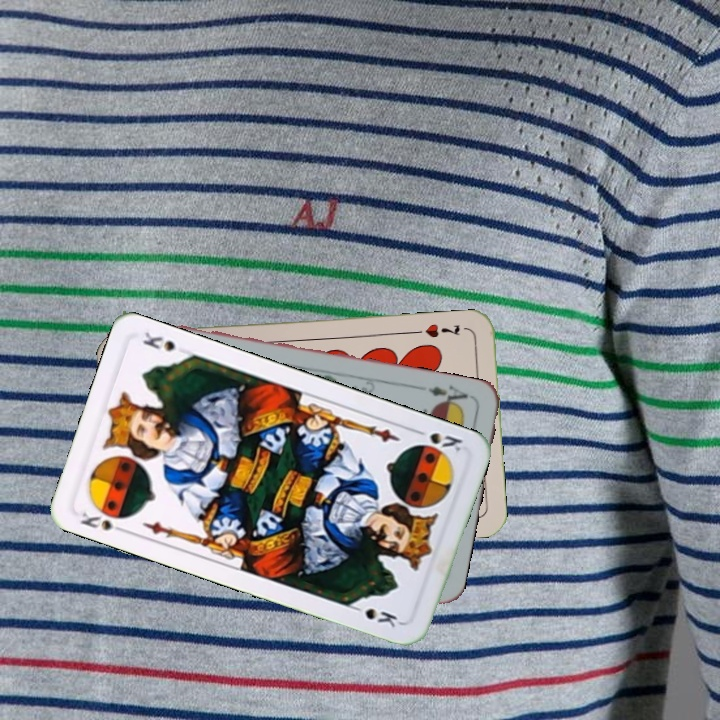EA: (424, 381, 475, 411)
H7: (422, 319, 463, 341)
SK: (409, 425, 465, 455), (76, 508, 130, 536)
